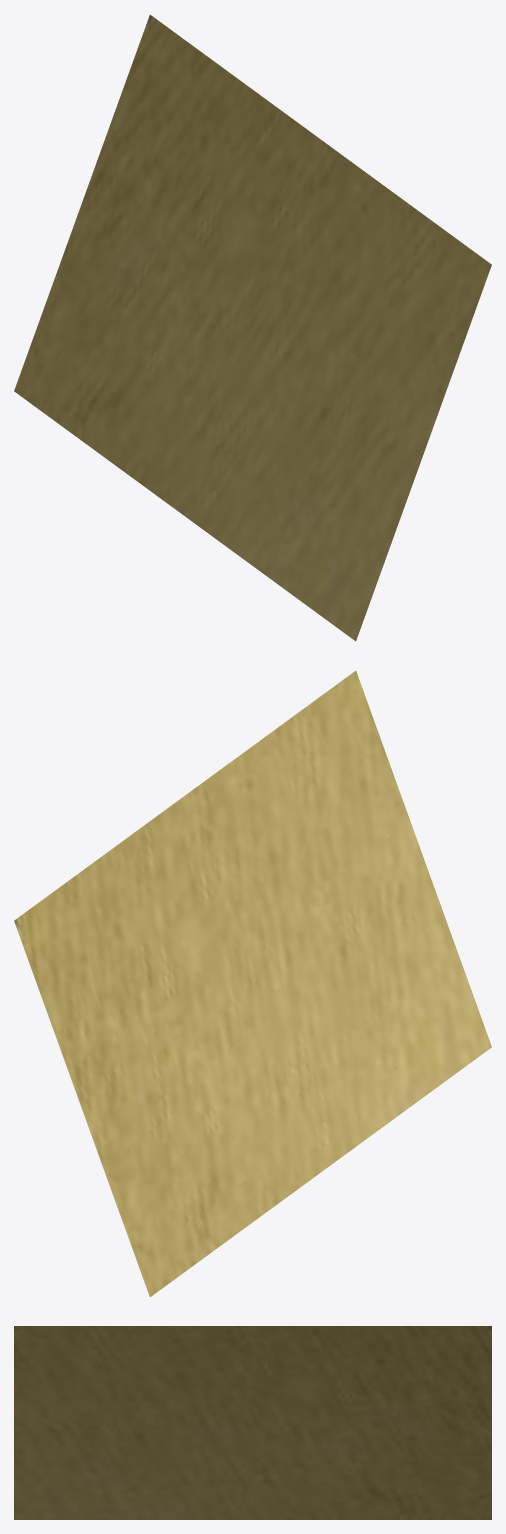
3 views of the same model, one above another, from view 1: azimuth 30°, elevation 25°; view 2: azimuth 150°, elevation 25°; view 3: azimuth 270°, elevation 25° (orthographic). The views are drawn at different scales.
Visible parts, largest first — view 1: 4_base__material_5_31_8; view 2: 4_base__material_5_31_8; view 3: 4_base__material_5_31_8.
Boxes of the visible parts, bbox=[...] form: 4_base__material_5_31_8: bbox=[14, 14, 491, 641]; 4_base__material_5_31_8: bbox=[14, 670, 491, 1297]; 4_base__material_5_31_8: bbox=[14, 1326, 491, 1519].
Bounding box in the file's own units: 0.000159 × 0.000383 × 0.000691.
Materials: 1 (1 with a texture image).
